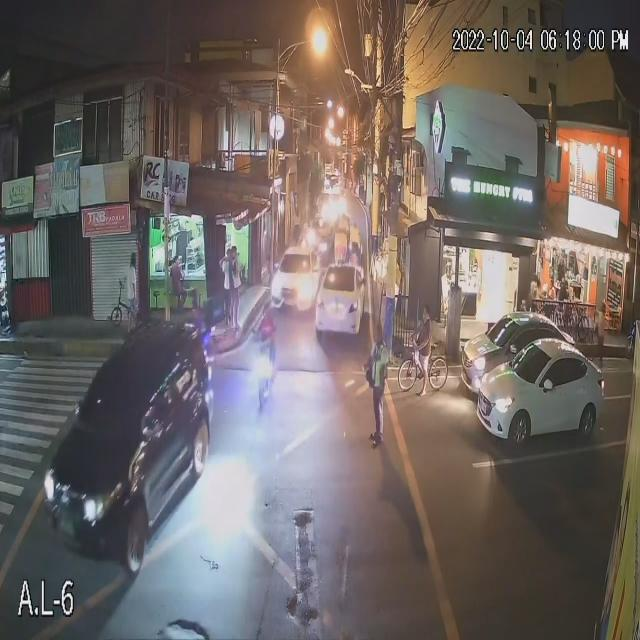motorcycle: (246, 352, 282, 406)
rider: (262, 321, 275, 350)
